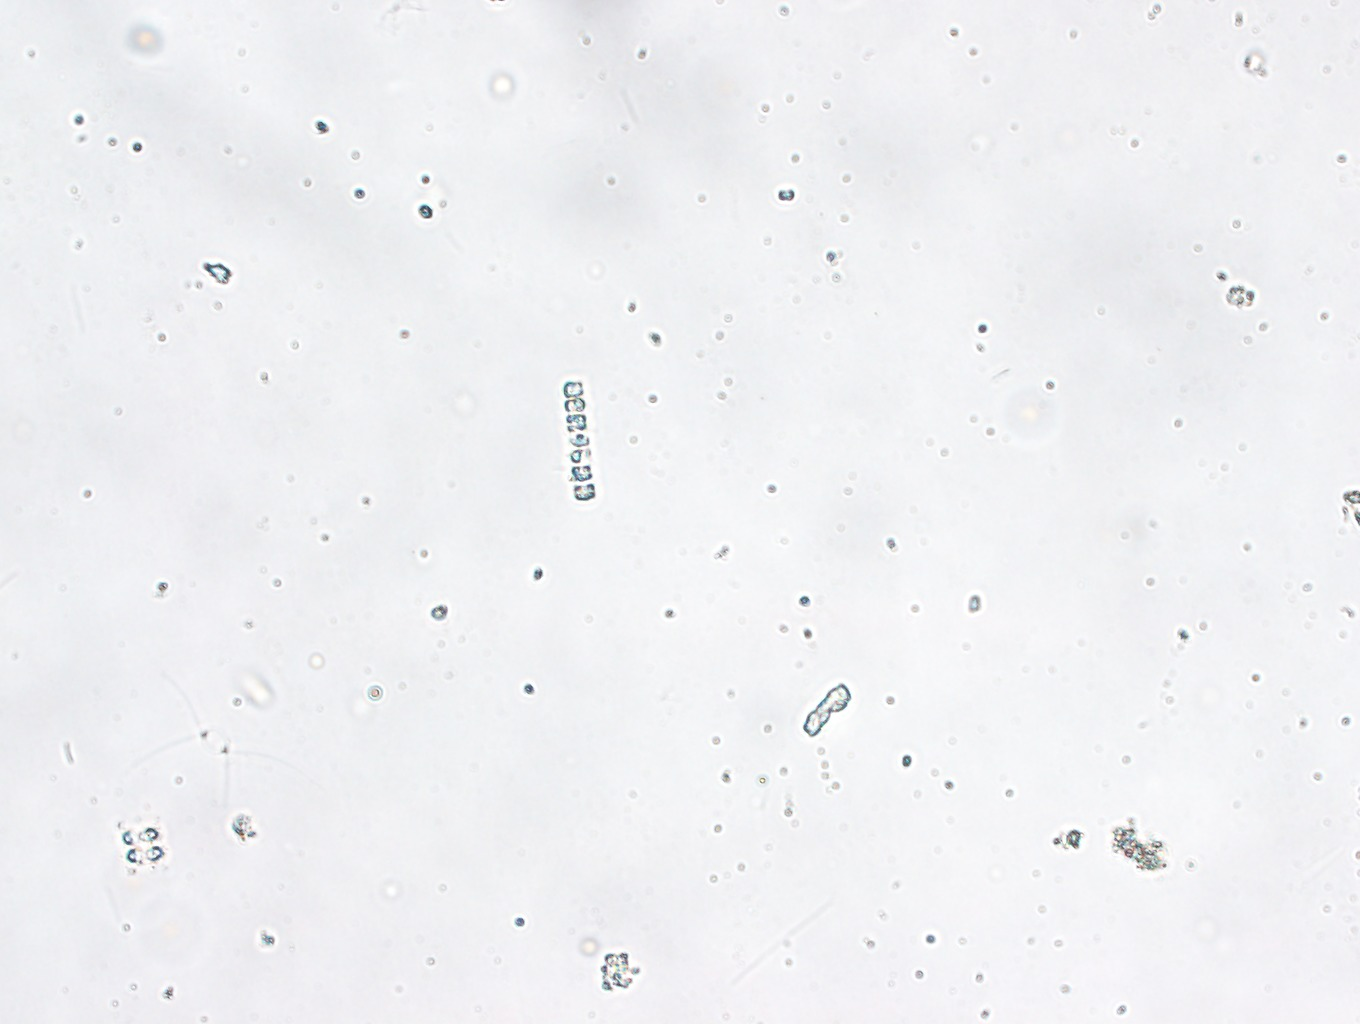skeletonema: (561, 379, 597, 500)
